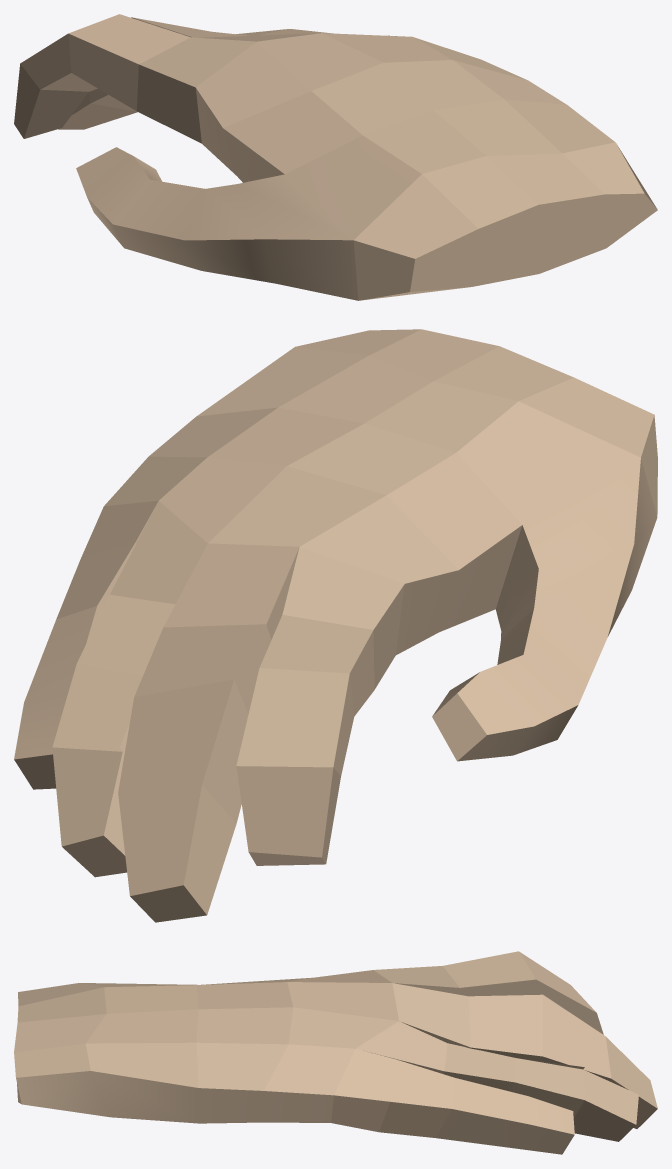
Rendered from Hand_Cut.fbx.
3 renders of one model, top to bottom at view 1: azimuth 30°, elevation 25°; view 2: azimuth 150°, elevation 25°; view 3: azimuth 270°, elevation 25°, orthographic. The views are drawn at different scales.
Parts seen in each view (by area): view 1: Hand_1; view 2: Hand_1; view 3: Hand_1.
Boxes of the visible parts, x1=… form: Hand_1: x1=14, y1=14, x2=657, y2=300; Hand_1: x1=14, y1=329, x2=657, y2=922; Hand_1: x1=14, y1=951, x2=657, y2=1154.
Size of the model in its own units: 12.29 by 5.92 by 21.26.
